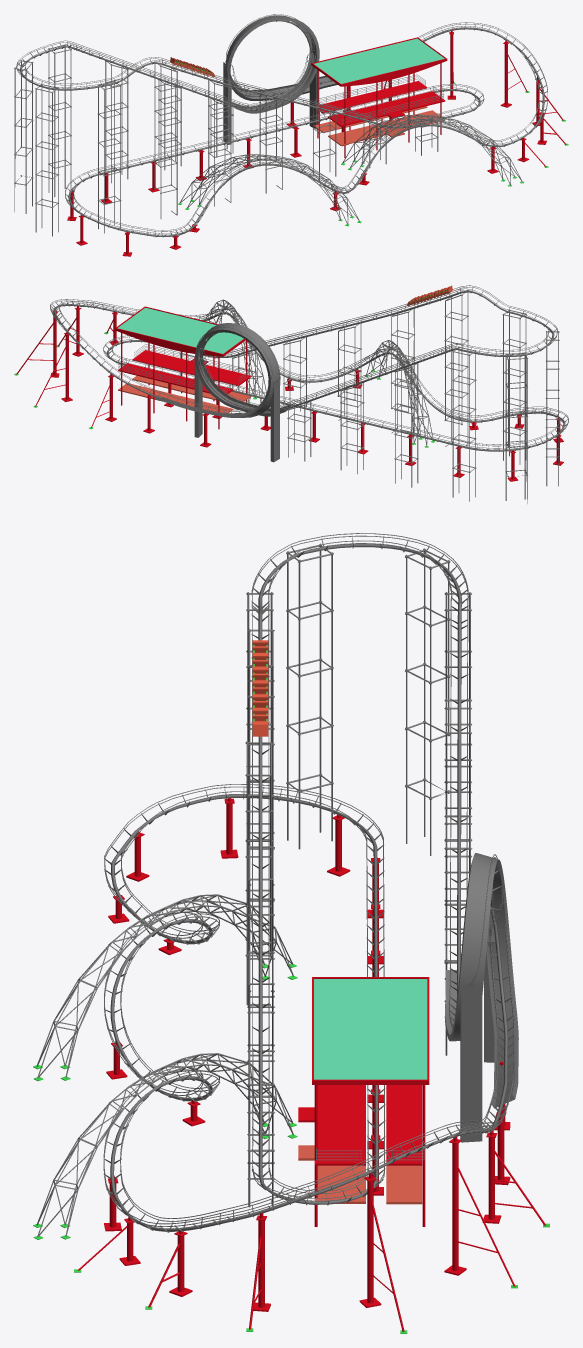
Rendered from MediumRC.fbx.
The picture shows the model from 3 angles, top to bottom: view 1: azimuth 30°, elevation 25°; view 2: azimuth 150°, elevation 25°; view 3: azimuth 270°, elevation 25°; orthographic projection. The views are drawn at different scales.
Visible parts, largest first — view 1: roller coaster; view 2: roller coaster; view 3: roller coaster.
Boxes of the visible parts, x1,y1,x2,y2 form: roller coaster: (14,14,568,256); roller coaster: (14,285,568,503); roller coaster: (33,533,549,1333).
Size of the model in its own units: 19978 by 5953 by 8673.
